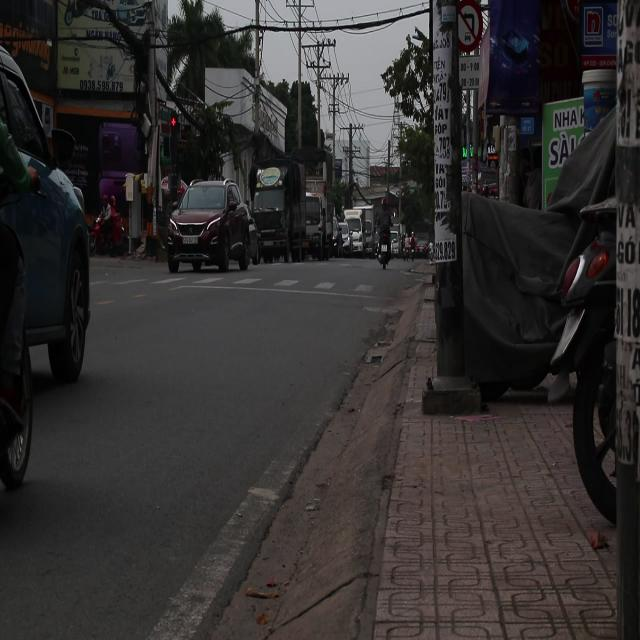car: (1, 31, 95, 527), (166, 180, 255, 274)
motorbike: (375, 219, 393, 273)
truck: (251, 162, 310, 264), (343, 206, 377, 257), (301, 192, 326, 260)
